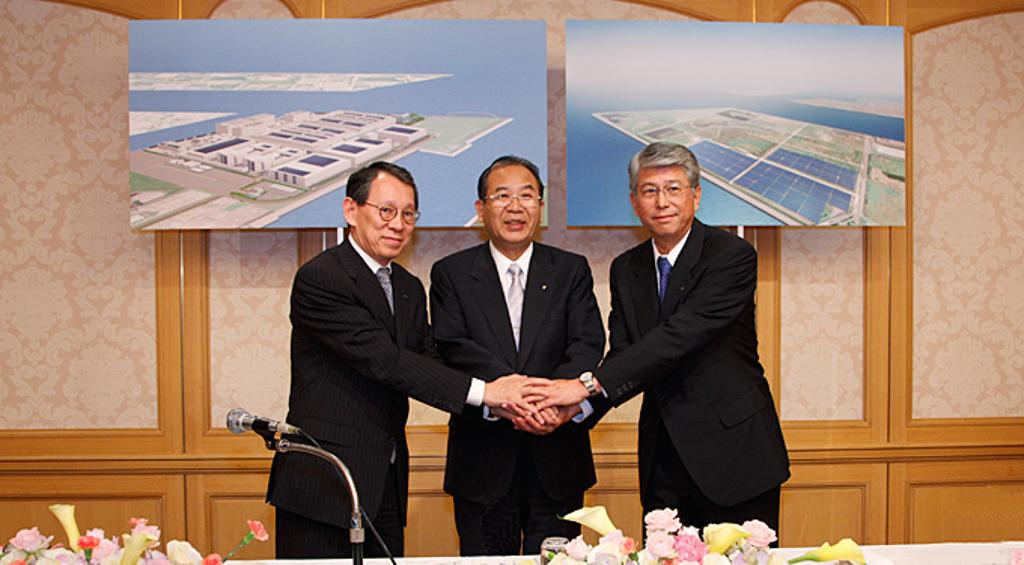face: (362, 170, 418, 260), (486, 162, 540, 244), (638, 160, 692, 240)
